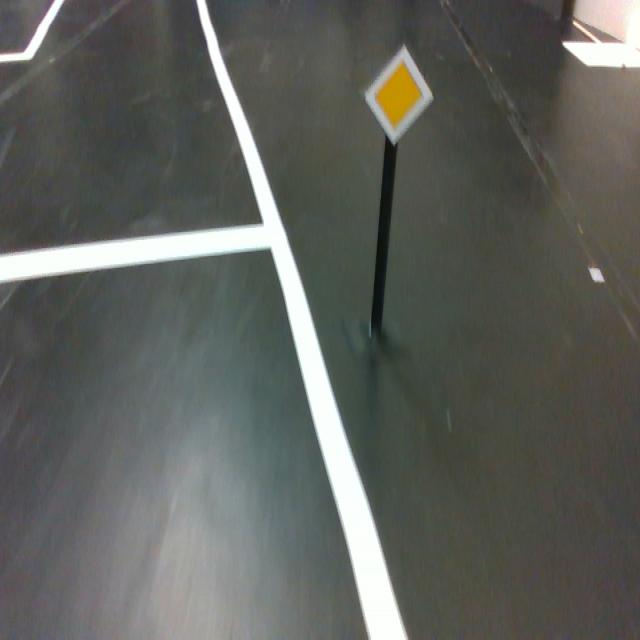priority-sign: (363, 43, 434, 148)
